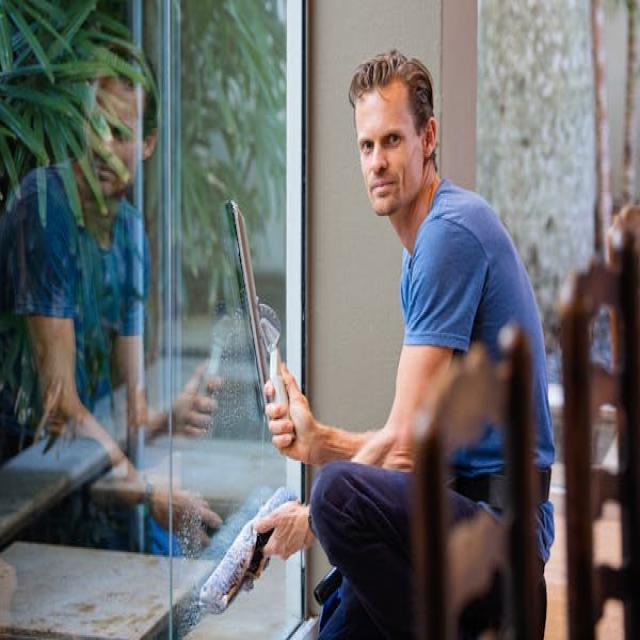Real human 2: (261, 35, 554, 636)
